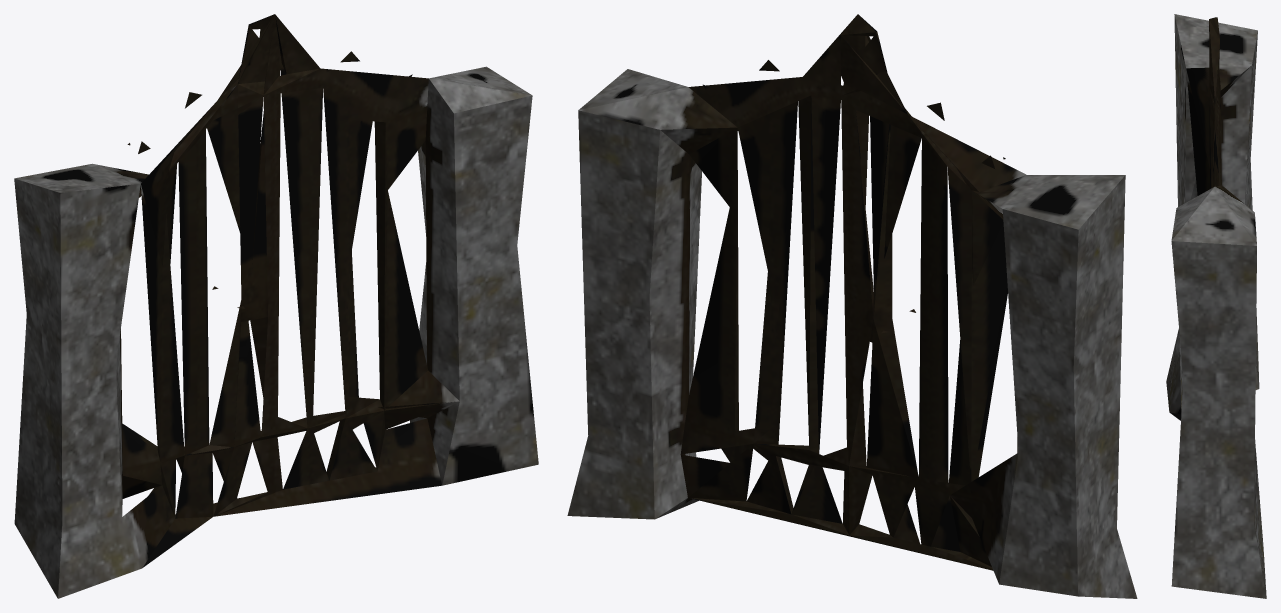
File: iron_gate_lod0.glb
3 views of the same model, side by side, from view 1: azimuth 30°, elevation 25°; view 2: azimuth 150°, elevation 25°; view 3: azimuth 270°, elevation 25° (orthographic). The views are drawn at different scales.
Parts seen in each view (by area): view 1: low; view 2: low; view 3: low.
Part boxes in pixels (left/top/right/bottom): low: left=14, top=14, right=538, bottom=598; low: left=567, top=14, right=1137, bottom=598; low: left=1166, top=14, right=1266, bottom=598.
Size of the model in its own units: 2.48 by 2.5 by 0.4834.
1 material, 1 textured.
